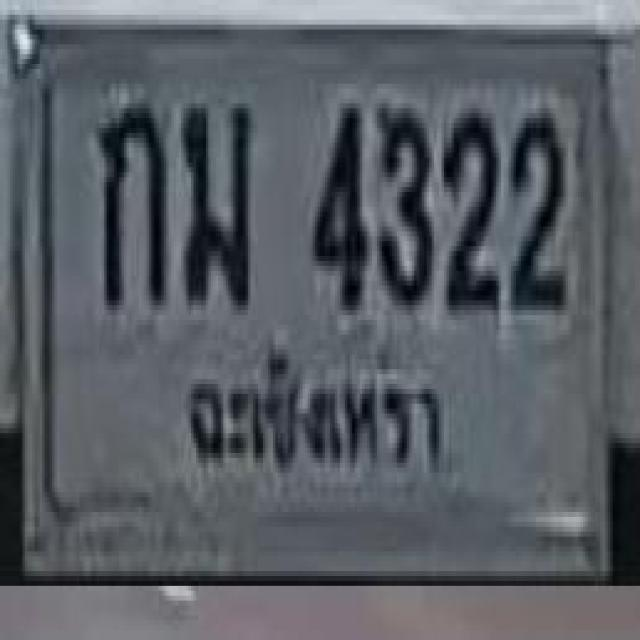license_plate: (8, 25, 623, 582)
